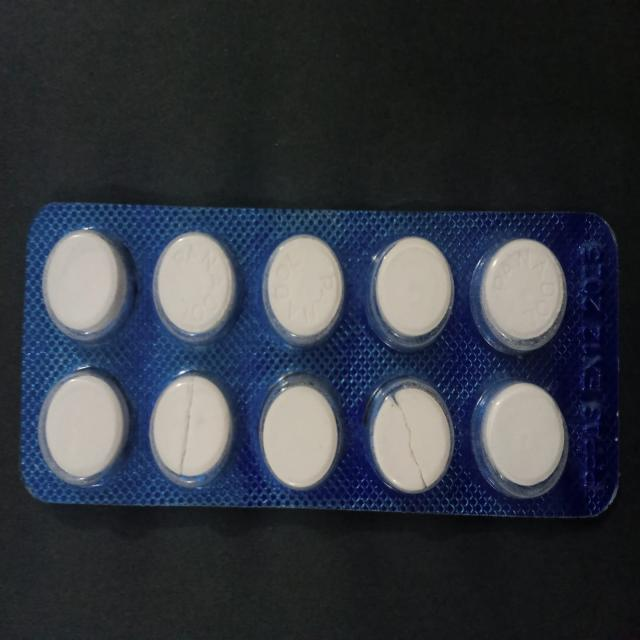defect: (144, 363, 240, 495), (363, 371, 459, 502)
